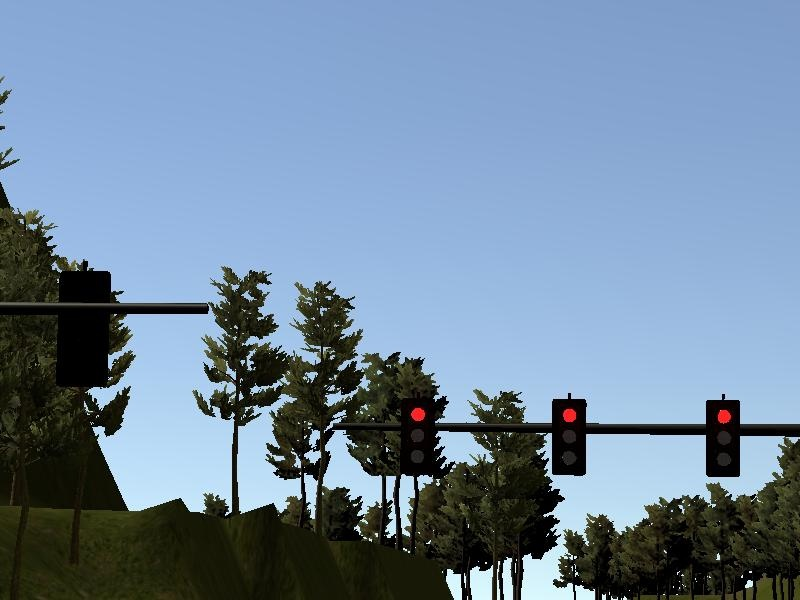RED: (704, 399, 739, 477), (402, 397, 434, 470), (552, 400, 584, 473)
